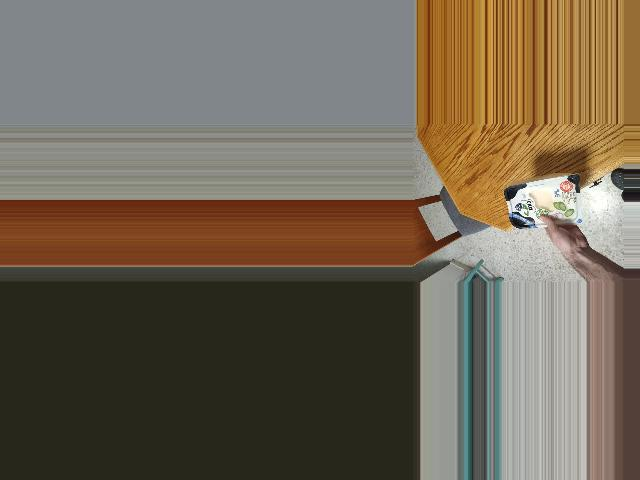cheese: (509, 176, 571, 238)
